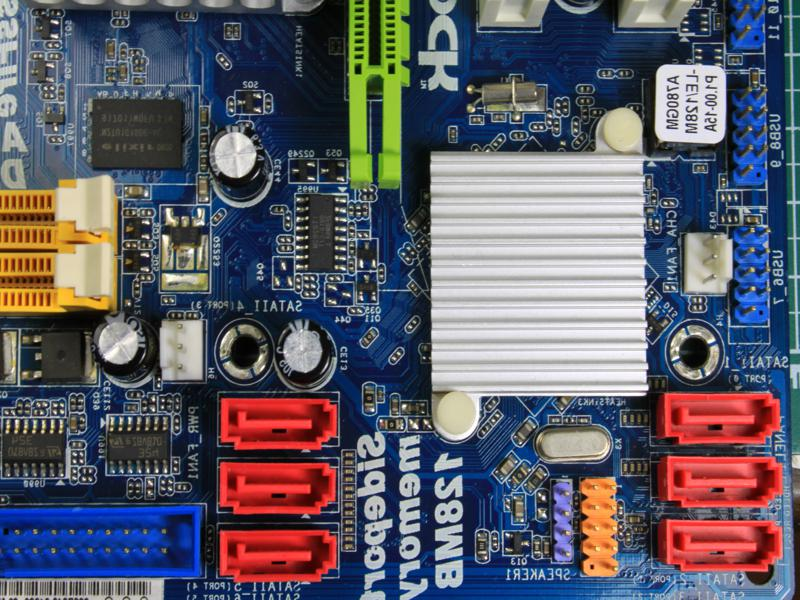Capacitor: (204, 123, 272, 204), (88, 309, 161, 383), (269, 316, 338, 391)
